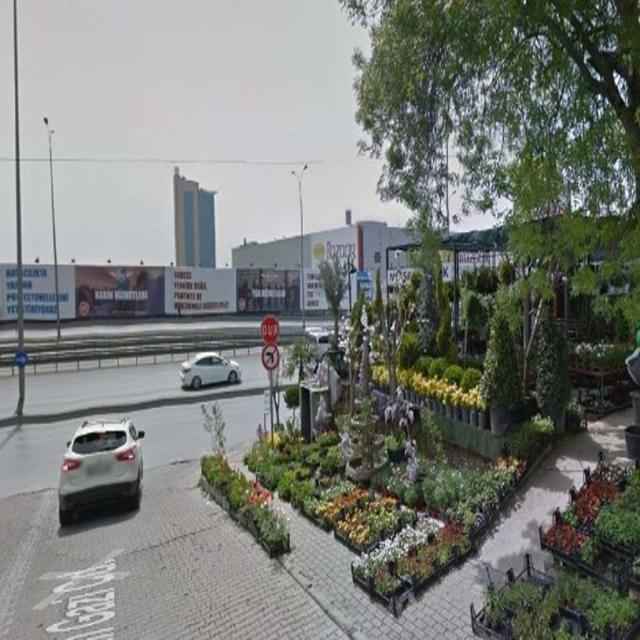dur: (261, 316, 279, 344)
soladonulmez: (261, 342, 279, 371)
